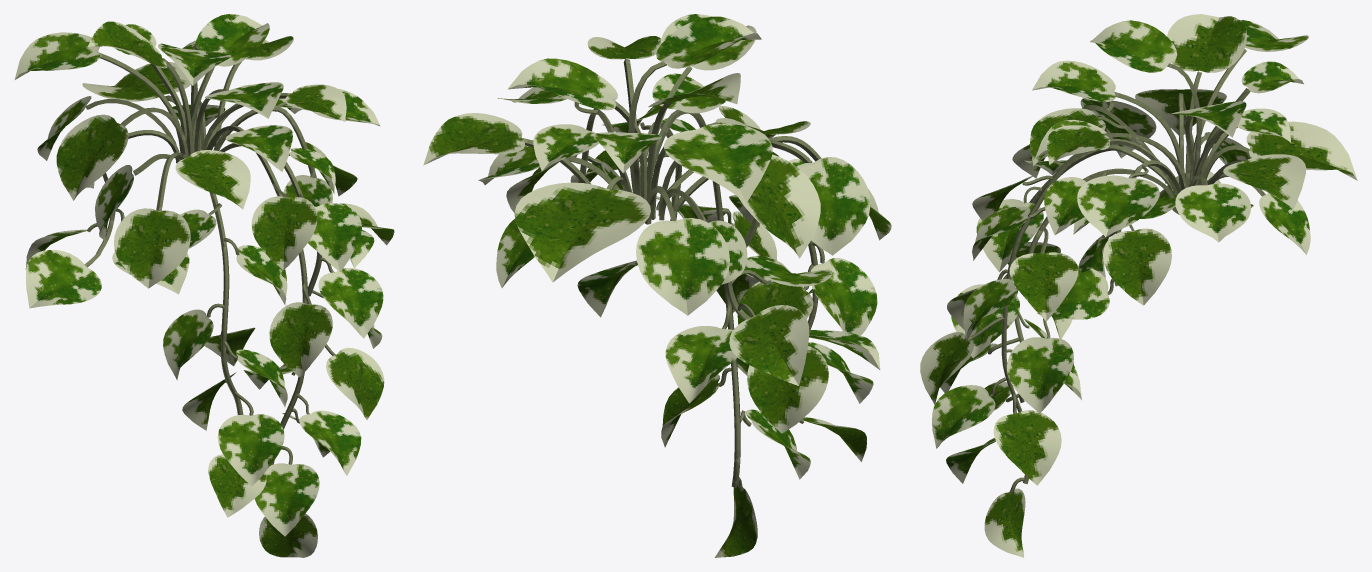
The model's file is Plant_D.fbx.
3 renders of one model, left to right at view 1: azimuth 30°, elevation 25°; view 2: azimuth 150°, elevation 25°; view 3: azimuth 270°, elevation 25°, orthographic. The views are drawn at different scales.
Visible parts, largest first — view 1: Plant_DDD1, Plant_DDD2; view 2: Plant_DDD1, Plant_DDD2; view 3: Plant_DDD1, Plant_DDD2.
Boxes of the visible parts, x1=… form: Plant_DDD1: x1=14, y1=14, x2=394, y2=308; Plant_DDD2: x1=163, y1=193, x2=384, y2=557; Plant_DDD1: x1=423, y1=14, x2=891, y2=385; Plant_DDD2: x1=577, y1=163, x2=877, y2=557; Plant_DDD1: x1=972, y1=14, x2=1357, y2=321; Plant_DDD2: x1=920, y1=186, x2=1081, y2=557.
Size of the model in its own units: 0.3143 by 0.4445 by 0.3535.
